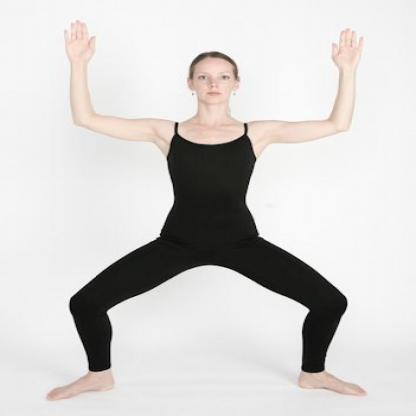godness: (38, 14, 386, 404)
